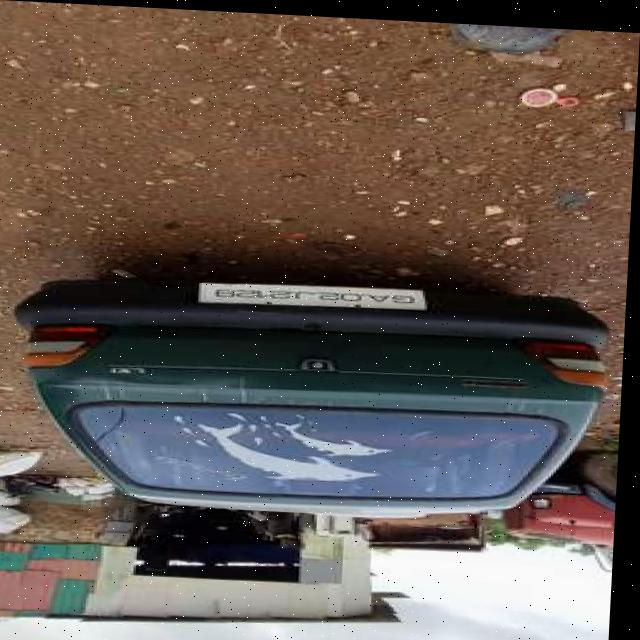plate: (202, 276, 430, 309)
